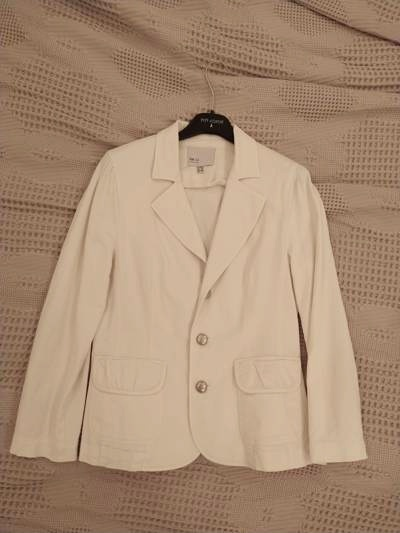Blazer: (0, 92, 379, 486)
